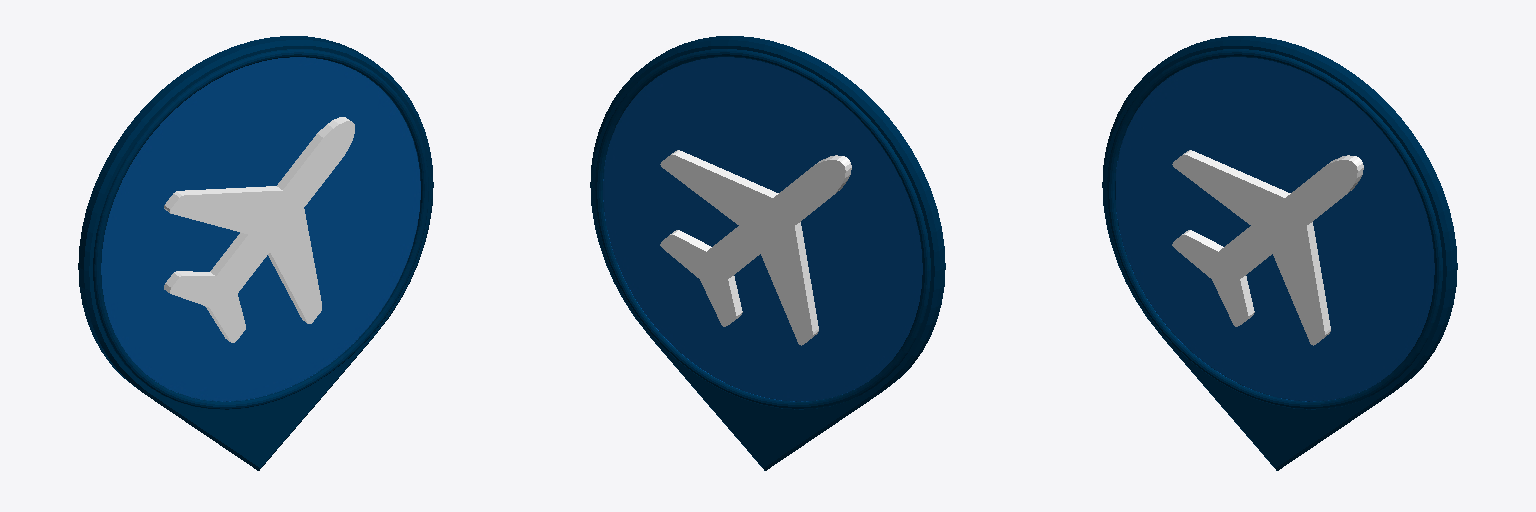
3 renders of one model, left to right at view 1: azimuth 30°, elevation 25°; view 2: azimuth 150°, elevation 25°; view 3: azimuth 330°, elevation 25°, orthographic.
Parts seen in each view (by area): view 1: Icon__04; view 2: Icon__04; view 3: Icon__04.
Part boxes in pixels (x1,y1,x2,y2): Icon__04: (78,36,433,470); Icon__04: (590,36,945,470); Icon__04: (1102,36,1457,470).
Size of the model in its own units: 20.03 by 23.35 by 2.14.
Materials: 1 (1 with a texture image).